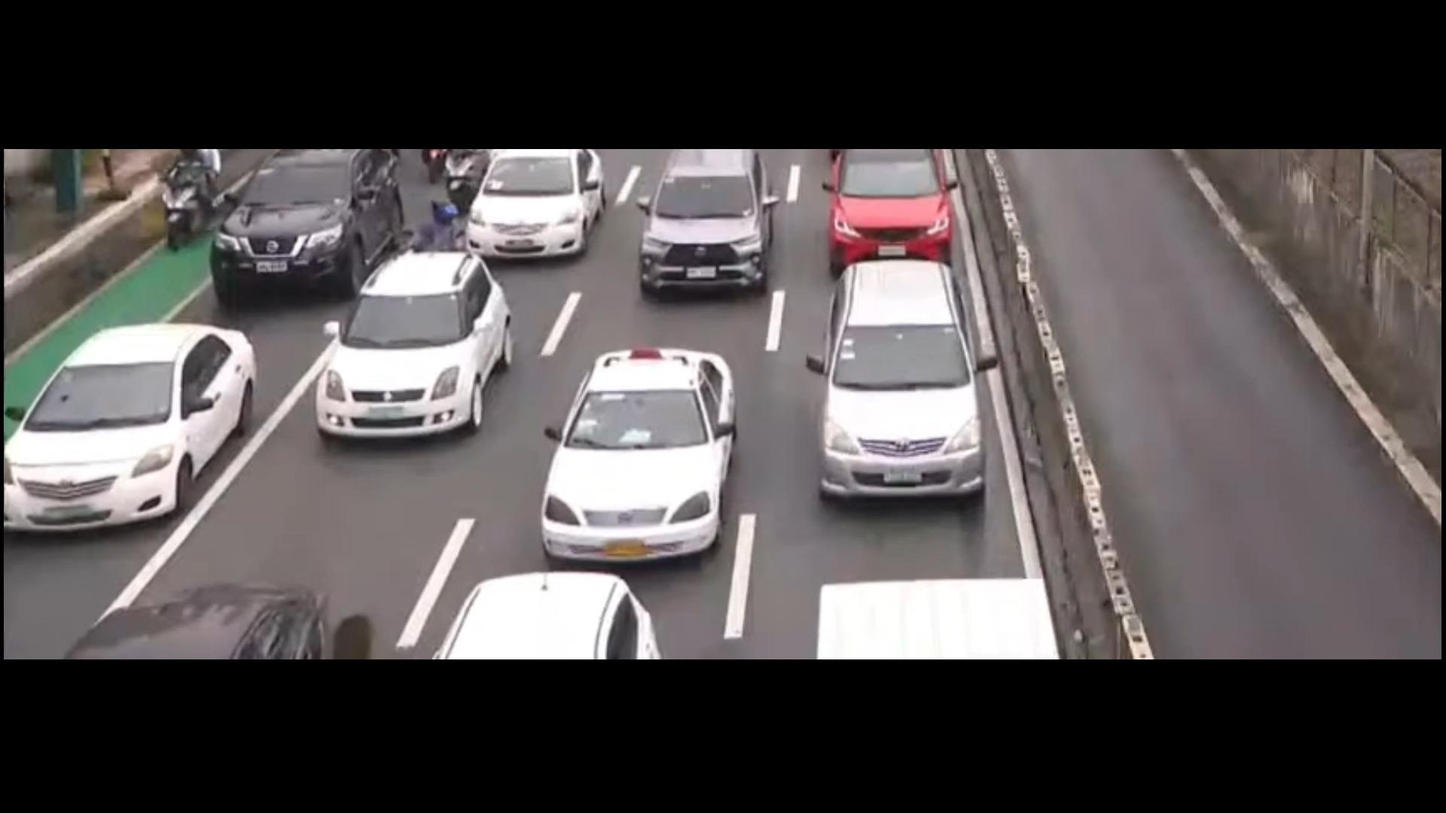Motorcycle: (156, 150, 233, 253)
SUV: (806, 261, 992, 500), (316, 252, 511, 437), (211, 150, 403, 301), (622, 134, 787, 305), (824, 152, 952, 272)
Sedan: (4, 322, 256, 535), (540, 347, 736, 561), (467, 148, 604, 259)
